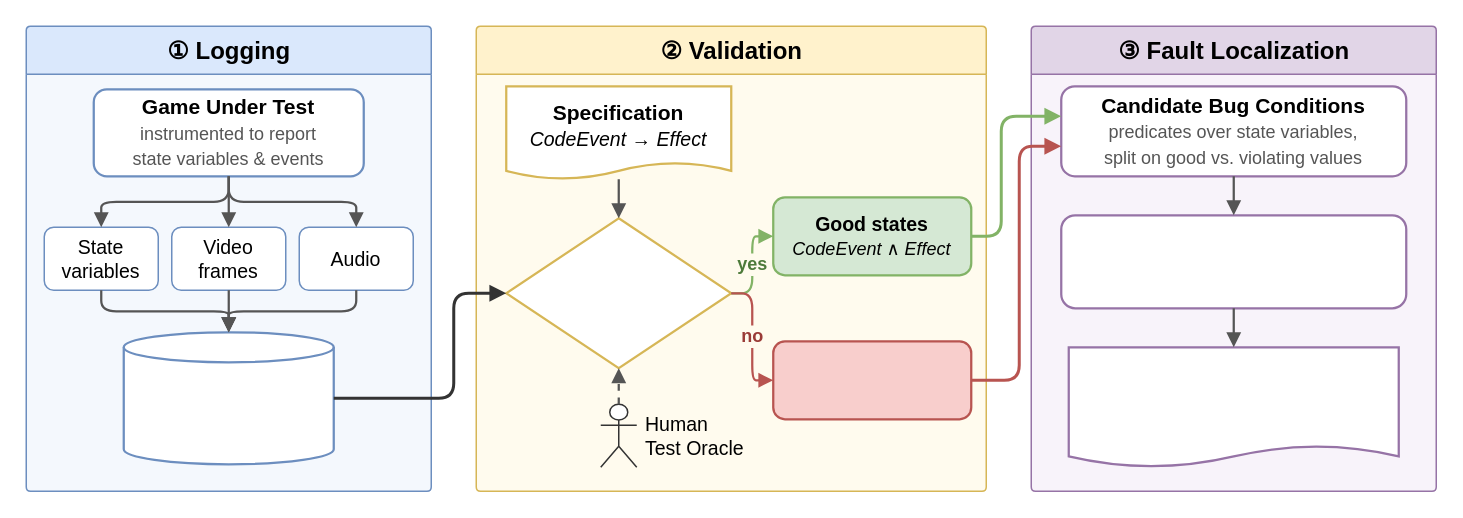
The diagram is 1463 pixels wide and 518 high, and some of its shapes have lost their labels. Each missing label, with the centre of its shape:
"Effect observed at CodeEvent ?" belongs at [618,292].
"Gameplay Trace synchronized, timestamped" belongs at [228,397].
"Ranked Bug Conditions e.g. player.wading == true" belongs at [1233,406].
"Suspiciousness Scoring Ochiai: violations vs. good states" belongs at [1233,261].
"Violations CodeEvent ∧ ¬ Effect" belongs at [871,379].
